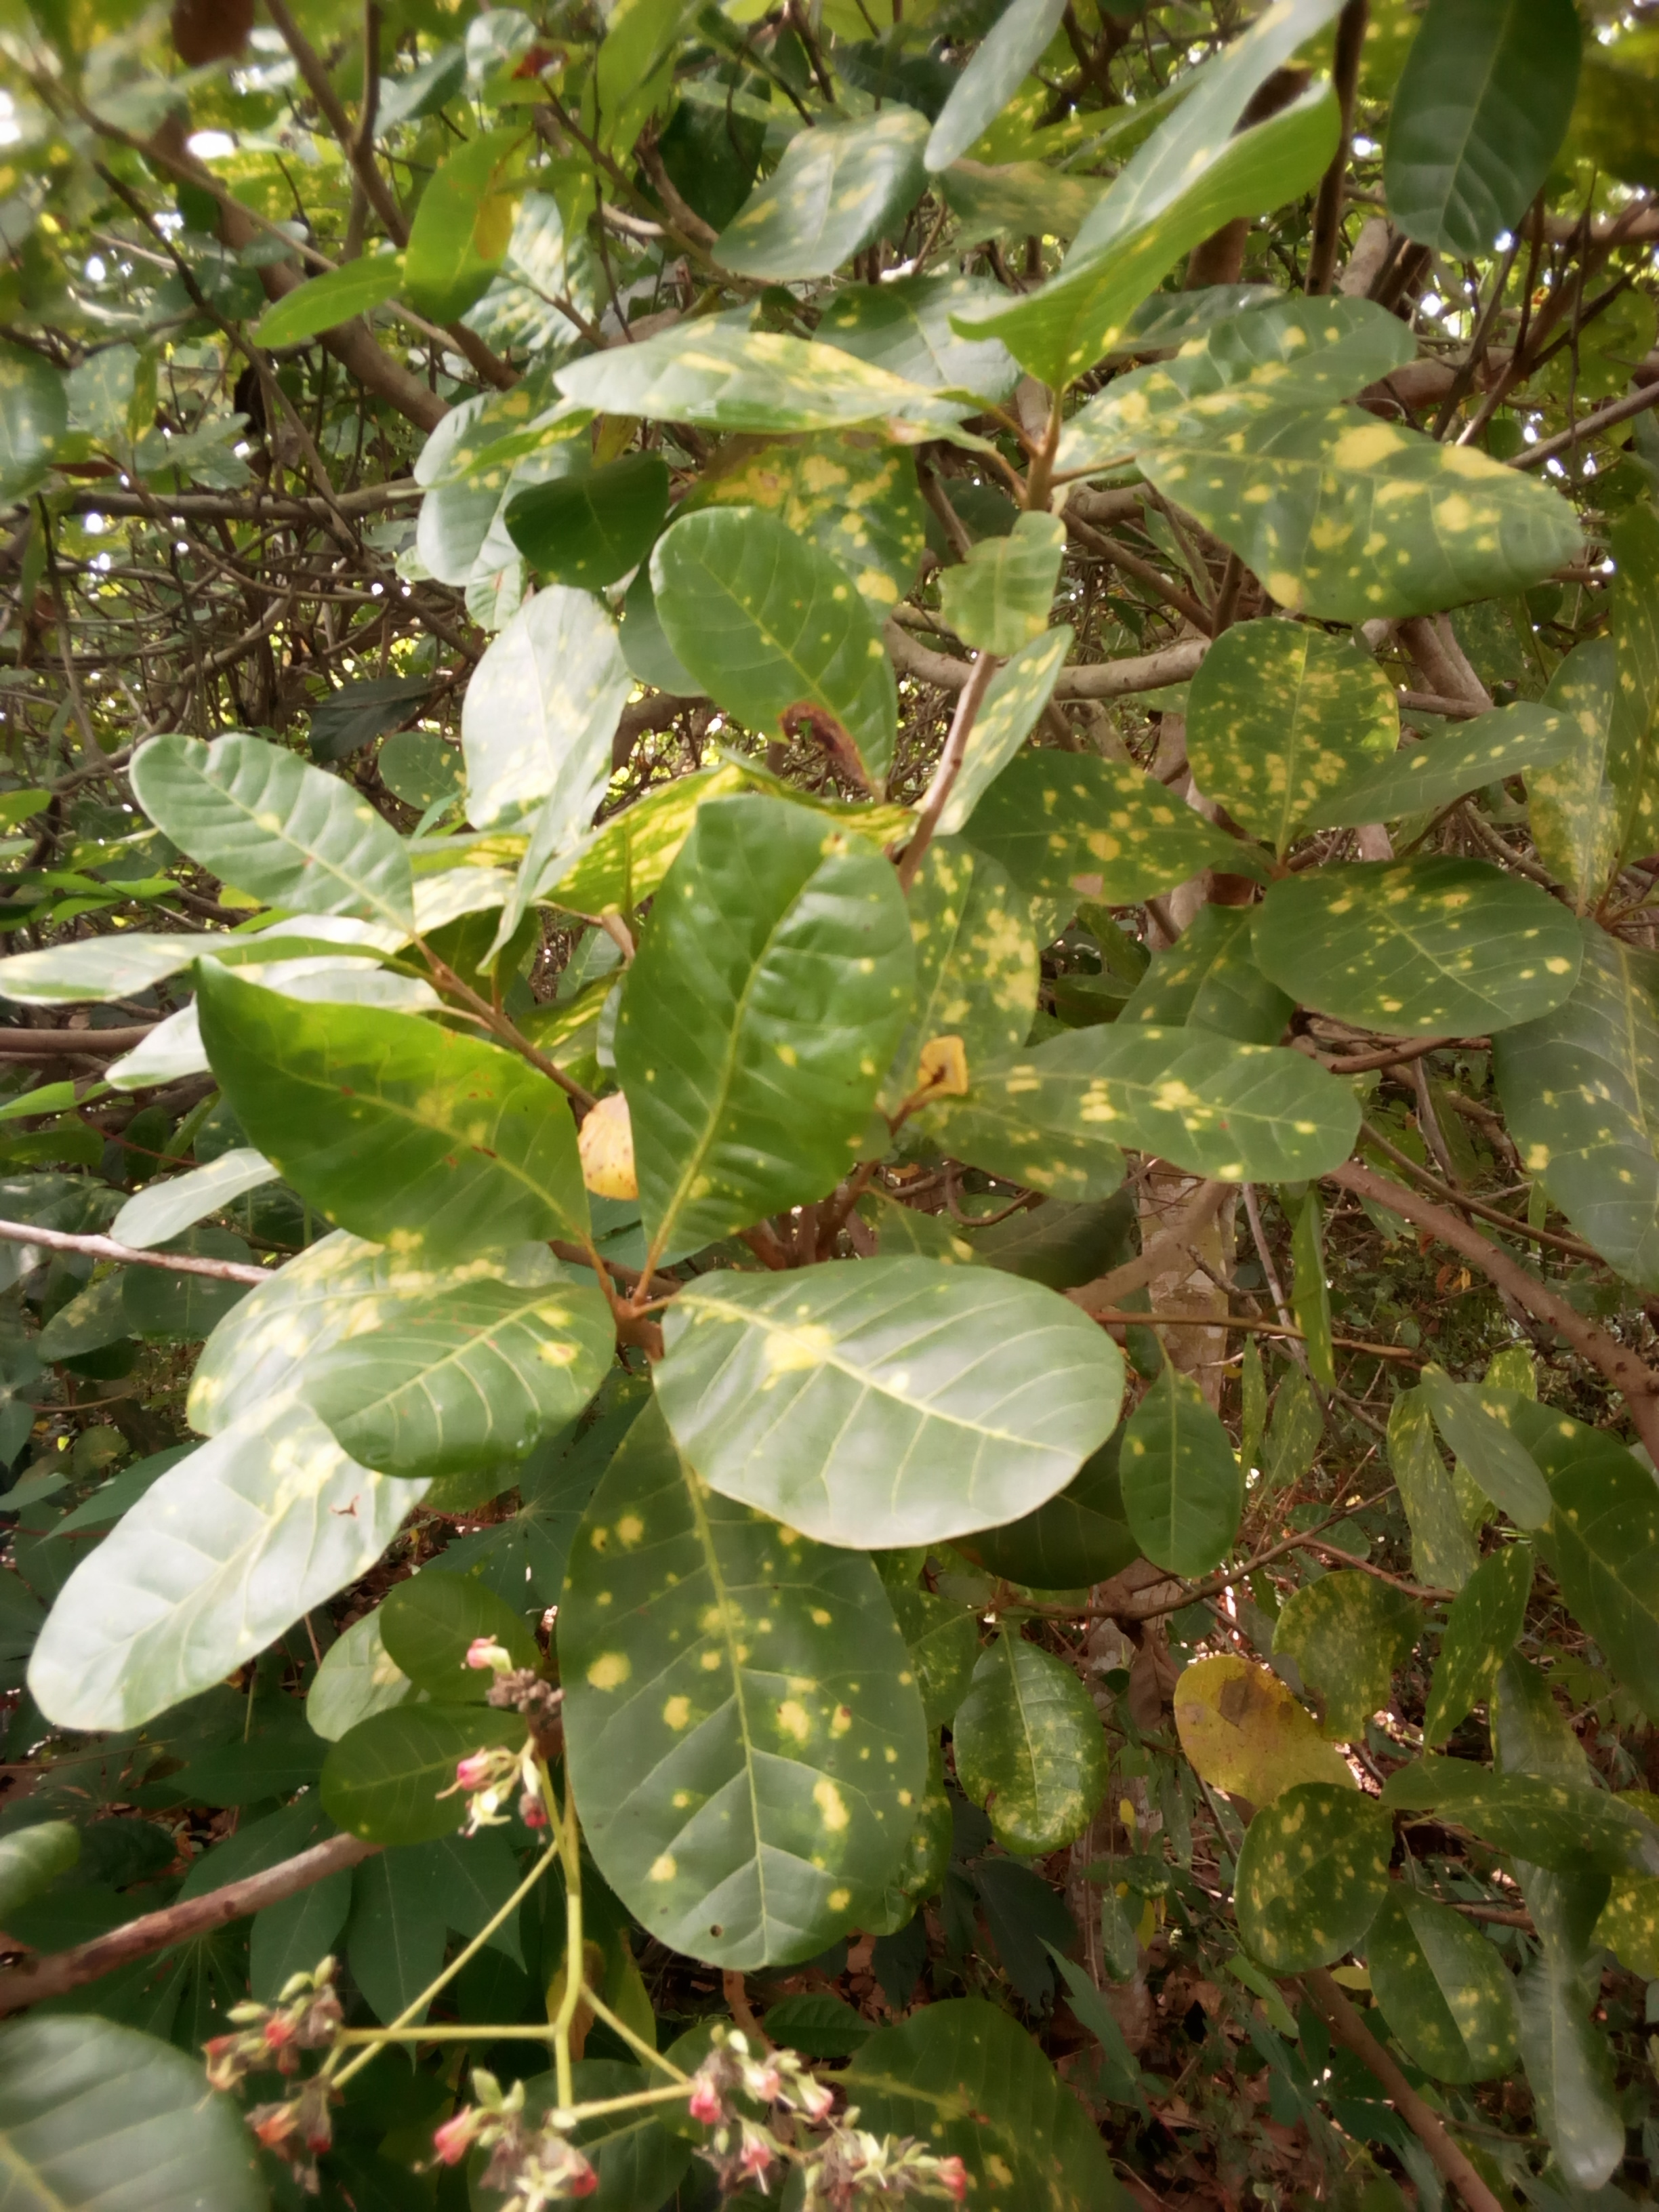Carence minérale: (504, 1407, 999, 2006), (606, 787, 999, 1325), (40, 1371, 457, 1750), (186, 956, 622, 1278), (1131, 428, 1626, 648), (640, 493, 934, 787), (1232, 845, 1643, 1049), (1016, 1008, 1396, 1207), (545, 314, 972, 472), (1514, 937, 1659, 1310), (373, 378, 558, 604)
